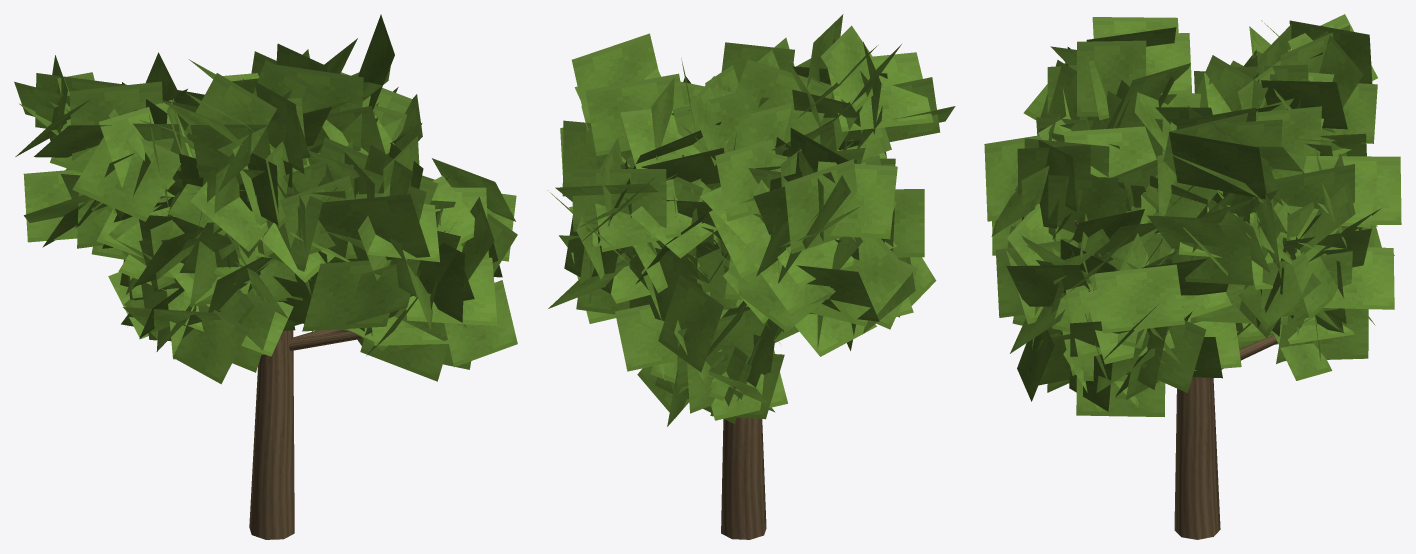
3 renders of one model, left to right at view 1: azimuth 30°, elevation 25°; view 2: azimuth 150°, elevation 25°; view 3: azimuth 270°, elevation 25°, orthographic. The views are drawn at different scales.
Visible parts, largest first — view 1: oak-leaf, oak-bark; view 2: oak-leaf, oak-bark; view 3: oak-leaf, oak-bark.
Boxes of the visible parts, left/top/right/bottom form: oak-leaf: left=14, top=14, right=517, bottom=384; oak-bark: left=249, top=329, right=362, bottom=539; oak-leaf: left=547, top=14, right=955, bottom=426; oak-bark: left=618, top=249, right=766, bottom=539; oak-leaf: left=984, top=14, right=1401, bottom=416; oak-bark: left=1074, top=220, right=1277, bottom=539.
Bounding box in the file's own units: 8.64 × 9.49 × 7.61.
2 materials, 2 textured.
